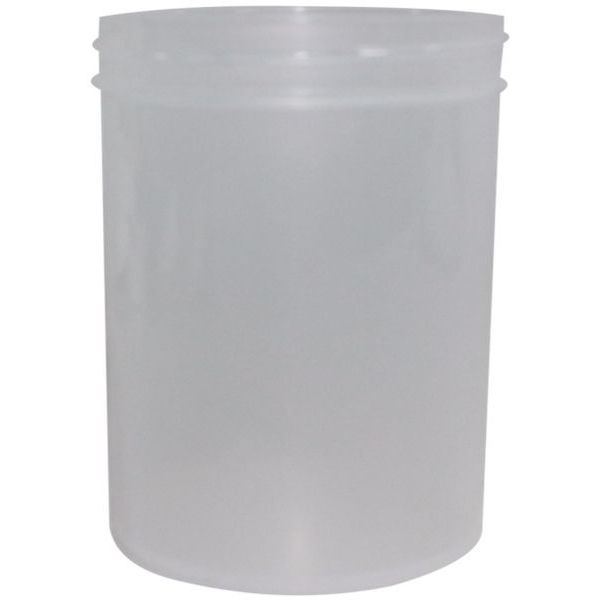Rec_Plastic: (93, 1, 505, 593)
